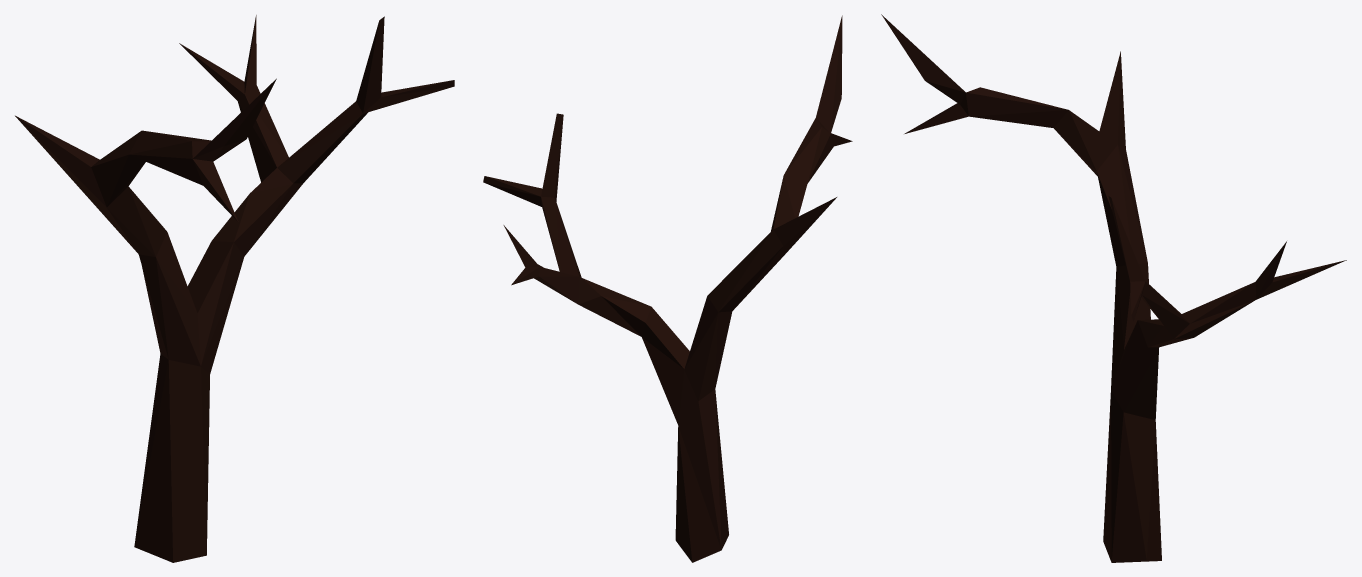
The model's file is TwigTree2.fbx.glb.
The picture shows the model from 3 angles, left to right: view 1: azimuth 30°, elevation 25°; view 2: azimuth 150°, elevation 25°; view 3: azimuth 270°, elevation 25°; orthographic projection. The views are drawn at different scales.
Parts seen in each view (by area): view 1: TwigTree2; view 2: TwigTree2; view 3: TwigTree2.
Part boxes in pixels (x1,y1,x2,y2): TwigTree2: (15, 15, 454, 562); TwigTree2: (483, 15, 852, 562); TwigTree2: (881, 14, 1346, 562).
Size of the model in its own units: 84.19 by 107 by 85.3.
